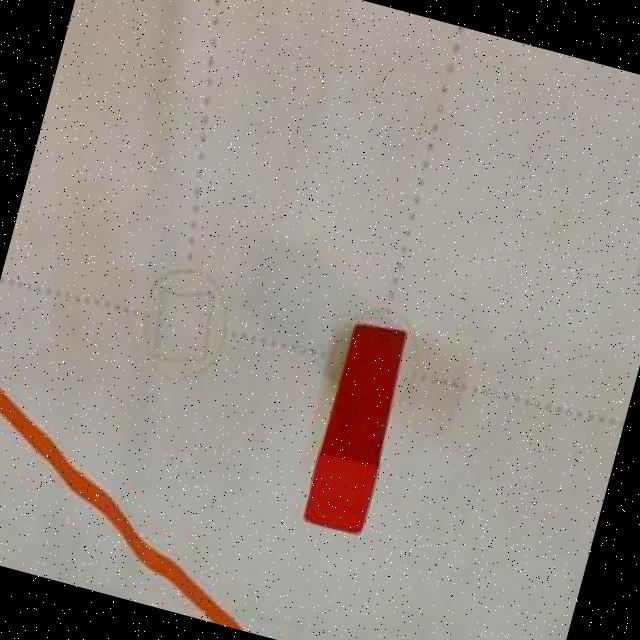redbox: (300, 318, 414, 541)
